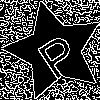P: (29, 25, 84, 82)
